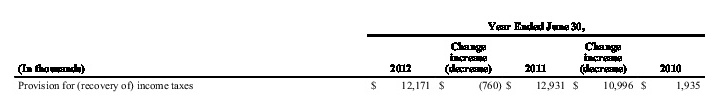table: (0, 0, 726, 110)
